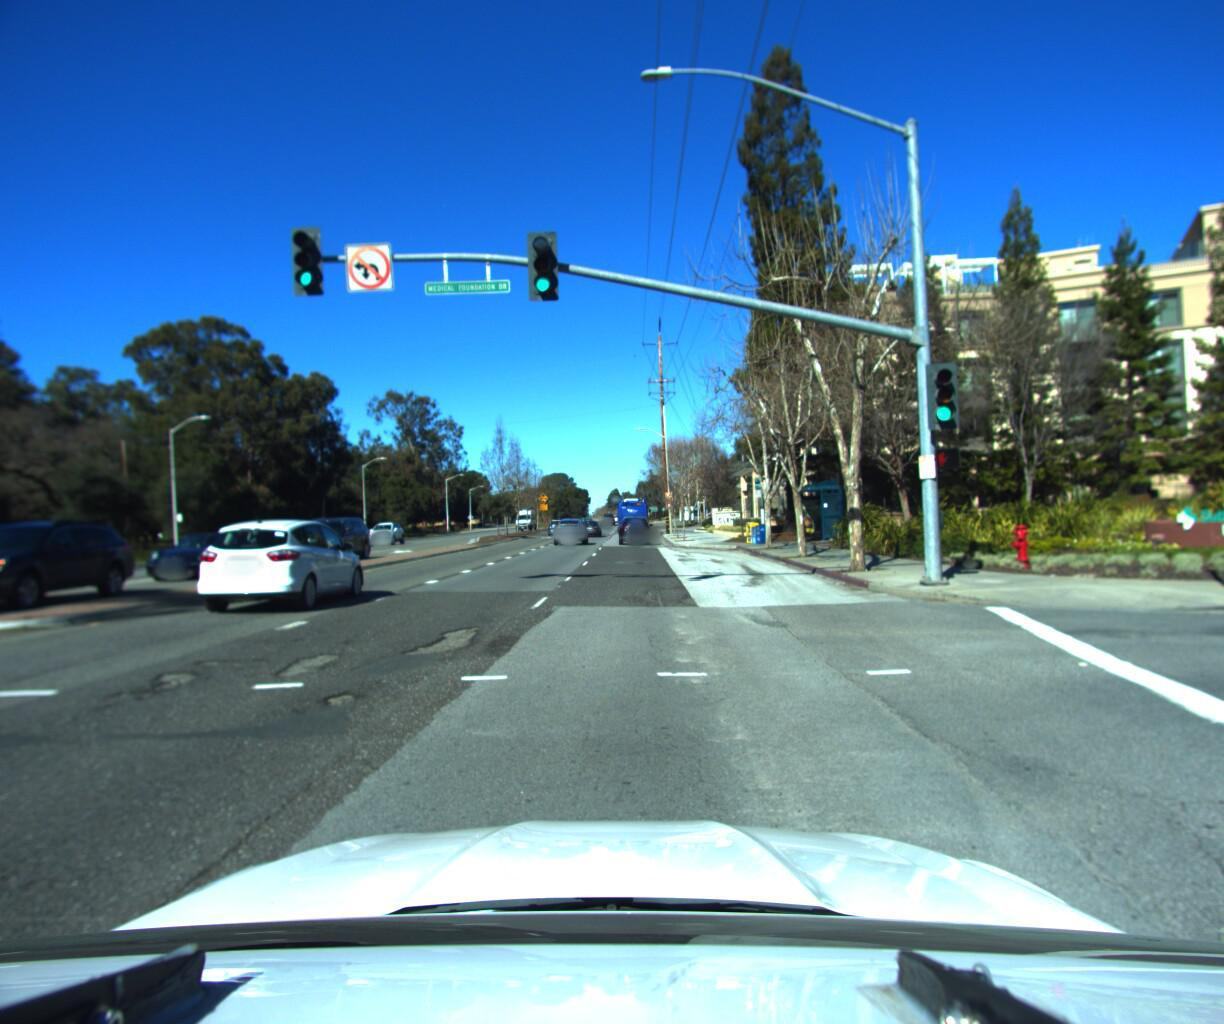bus: (614, 491, 652, 532)
car: (198, 511, 384, 613), (135, 528, 276, 583), (277, 513, 382, 564), (366, 516, 410, 543), (550, 514, 589, 543), (616, 511, 652, 542), (580, 514, 604, 532)
